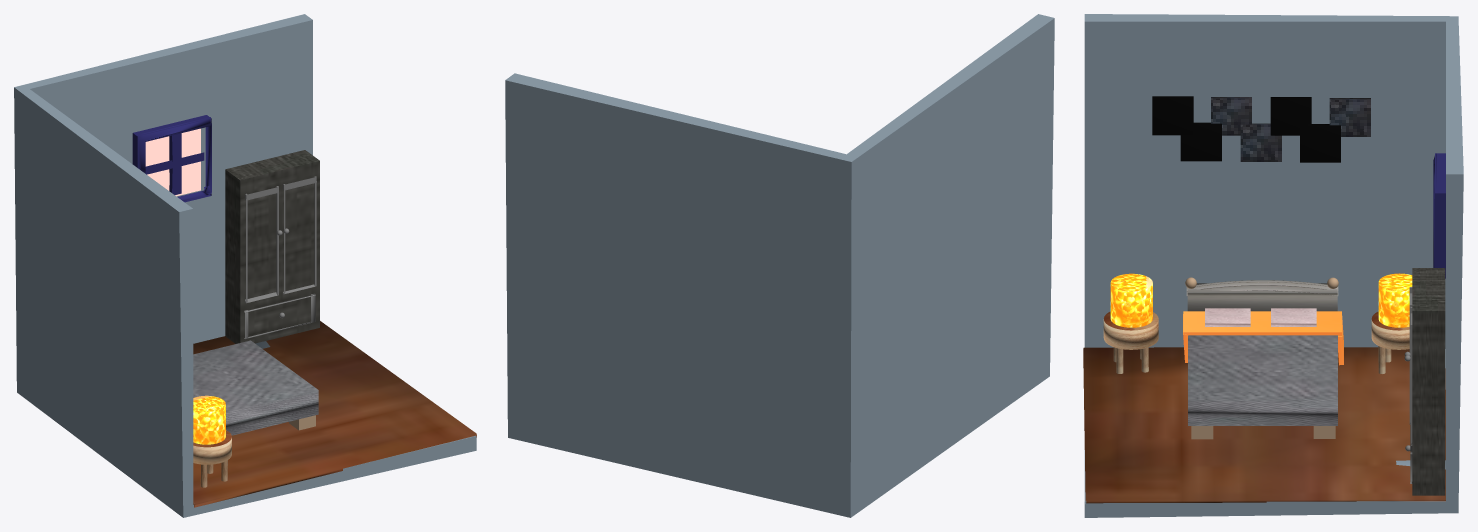
Rendered from myhomeThisFour.glb.
3 views of the same model, side by side, from view 1: azimuth 30°, elevation 25°; view 2: azimuth 150°, elevation 25°; view 3: azimuth 270°, elevation 25° (orthographic). The views are drawn at different scales.
Visible parts, largest first — view 1: Cube.028, Cube.001, Cube.016, Cube.002, Cube.027, Cube.014, Cylinder.005, Cube.015, Cylinder, Cube.017, Cube.018, Cube.013 (+1 smaller); view 2: Cube.028; view 3: Cube.028, Cube.001, Cube.002, Cube.016, Cube.007, Cube.009, Cylinder.005, Cylinder.011, Cube.020, Cube.025, Cube.024, Cube.026 (+9 smaller).
Part boxes in pixels (bbox=[...]): Cube.028: bbox=[14, 14, 476, 517]; Cube.001: bbox=[193, 321, 476, 507]; Cube.016: bbox=[225, 150, 319, 343]; Cube.002: bbox=[193, 340, 318, 435]; Cube.027: bbox=[145, 128, 200, 196]; Cube.014: bbox=[137, 117, 211, 200]; Cylinder.005: bbox=[193, 395, 225, 444]; Cube.015: bbox=[145, 133, 204, 194]; Cylinder: bbox=[193, 430, 231, 464]; Cube.017: bbox=[245, 186, 278, 303]; Cube.018: bbox=[283, 176, 316, 294]; Cube.013: bbox=[132, 115, 211, 202]; Cube.028: bbox=[505, 14, 1054, 517]; Cube.028: bbox=[1084, 14, 1463, 517]; Cube.001: bbox=[1083, 347, 1445, 503]; Cube.002: bbox=[1188, 306, 1337, 425]; Cube.016: bbox=[1412, 268, 1445, 495]; Cube.007: bbox=[1187, 283, 1337, 311]; Cube.009: bbox=[1183, 311, 1341, 336]; Cylinder.005: bbox=[1110, 273, 1152, 327]; Cylinder.011: bbox=[1378, 273, 1412, 327]; Cube.020: bbox=[1152, 96, 1193, 135]; Cube.025: bbox=[1300, 124, 1340, 162]; Cube.024: bbox=[1270, 97, 1311, 135]; Cube.026: bbox=[1329, 98, 1370, 136].
Bounding box in the file's own units: 7.46 × 7.44 × 7.46.
Materials: 46 (26 with a texture image).
